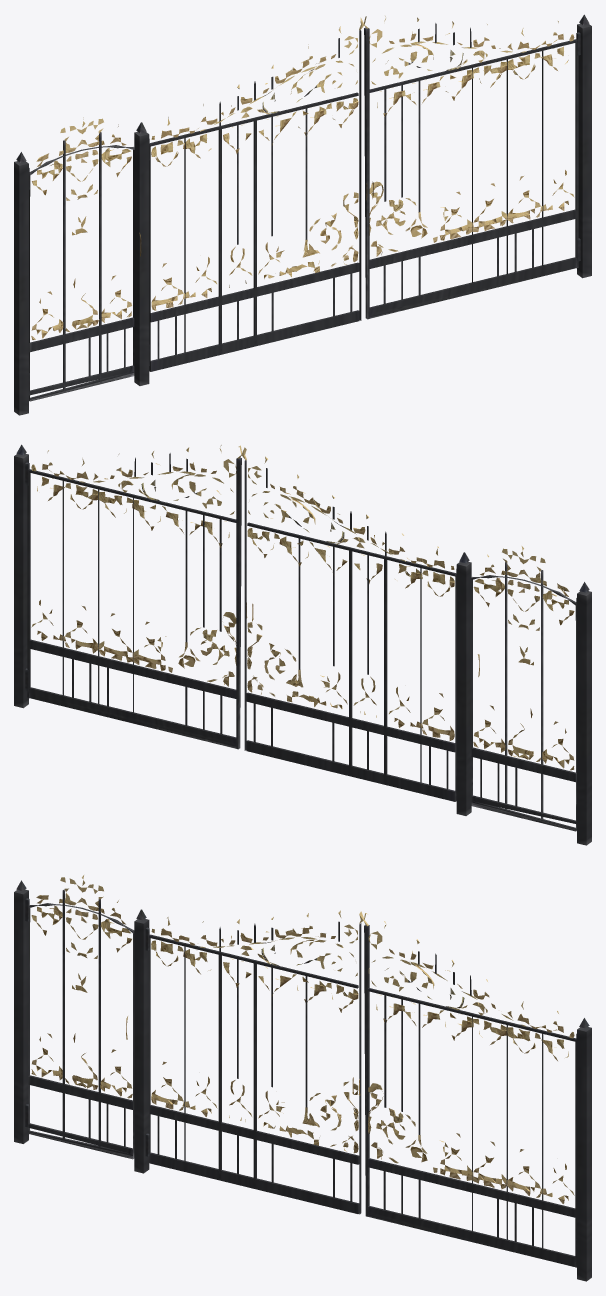
File: v_gate2.glb
3 renders of one model, top to bottom at view 1: azimuth 30°, elevation 25°; view 2: azimuth 150°, elevation 25°; view 3: azimuth 330°, elevation 25°, orthographic.
Bounding box in the file's own units: 20.98 × 10.95 × 0.6546.
1 material, 1 textured.
